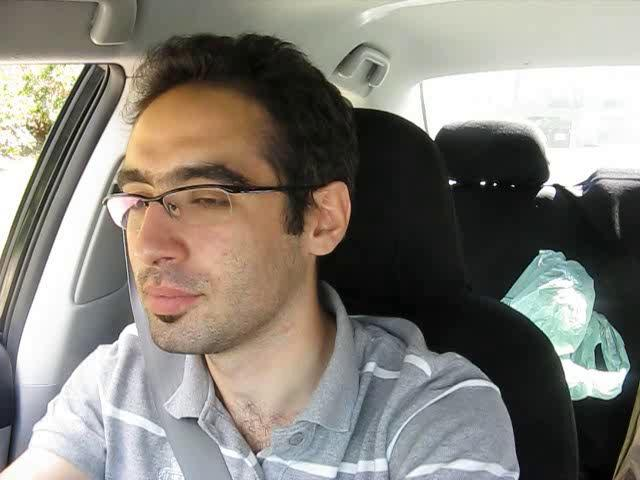close_eyeL: (113, 186, 158, 223)
close_eyeR: (170, 181, 246, 226)
no_yawn: (129, 277, 216, 322)
